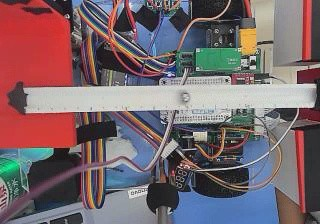ironball: (178, 91, 190, 101)
